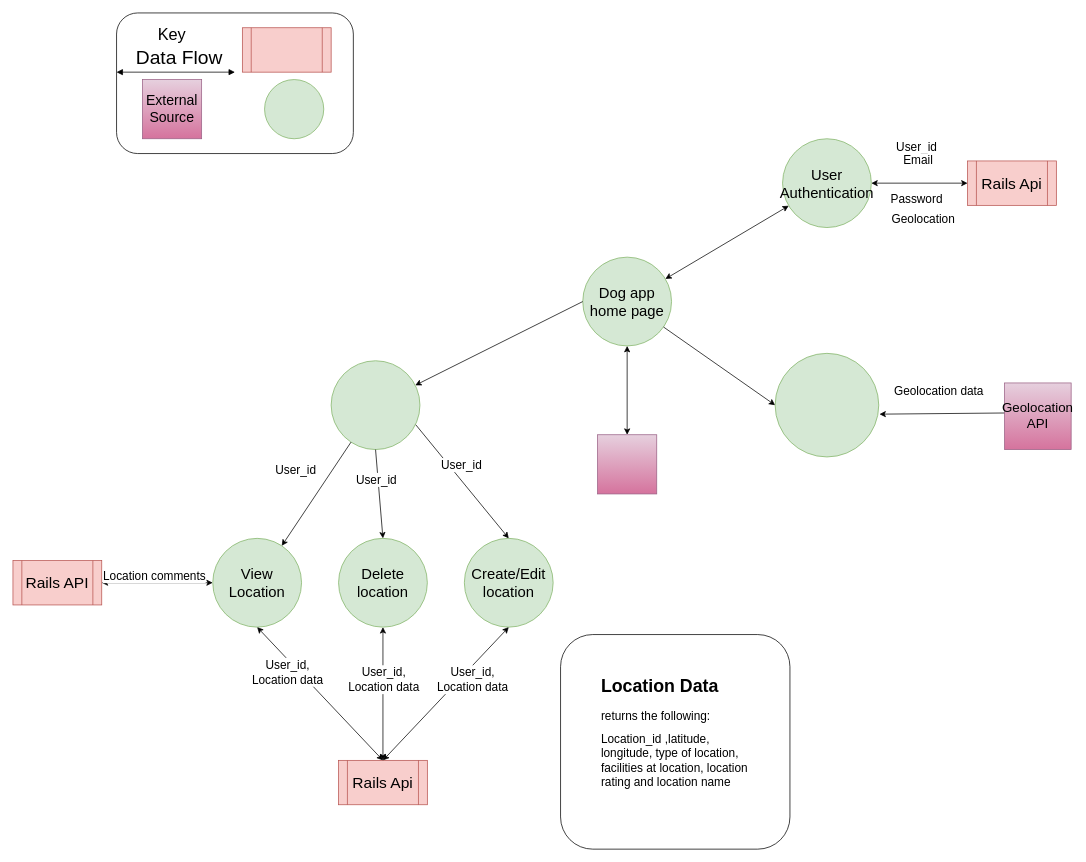
The diagram is 1086 pixels wide and 862 high, and some of its shapes have lost their labels. Each missing label, with the centre of its shape:
"Location index" goes at [375,405].
"Nearby locations" goes at [826,405].
"Process" goes at [294,109].
"Storage" goes at [286,49].
"User" goes at [627,464].
